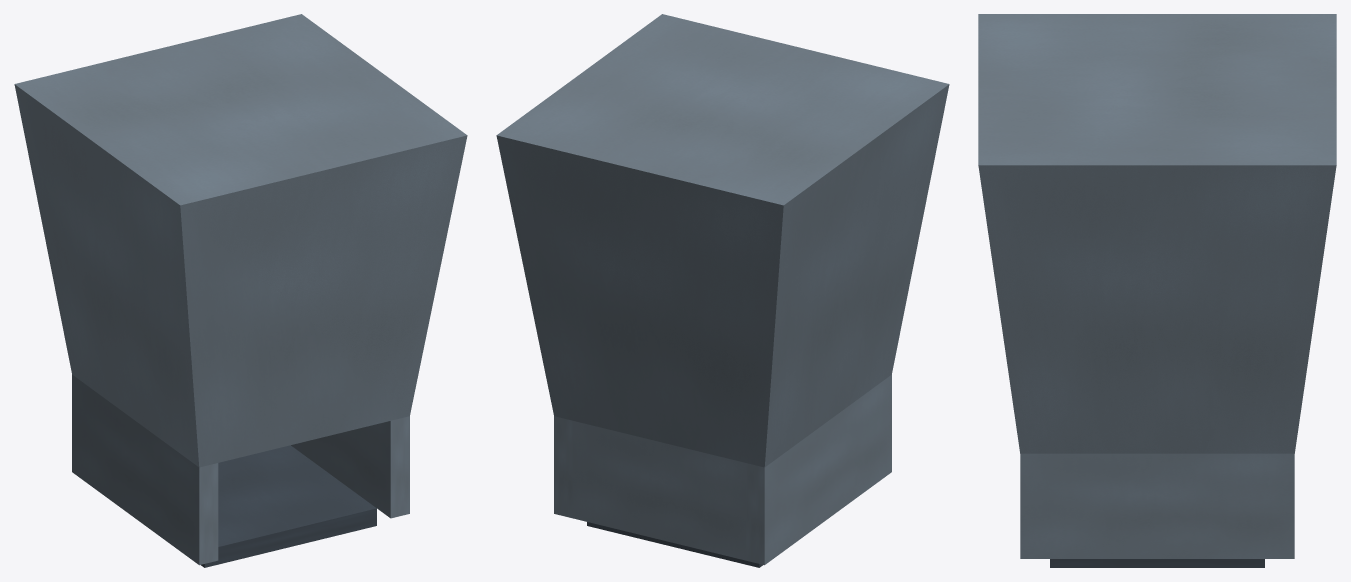
File: dispenser-02.glb
3 renders of one model, left to right at view 1: azimuth 30°, elevation 25°; view 2: azimuth 150°, elevation 25°; view 3: azimuth 270°, elevation 25°, orthographic. The views are drawn at different scales.
Visible parts, largest first — view 1: housing, release-gate; view 2: housing, release-gate; view 3: housing, release-gate.
Part boxes in pixels (left/top/right/bottom): housing: left=14, top=14, right=467, bottom=565; release-gate: left=201, top=445, right=376, bottom=567; housing: left=496, top=14, right=949, bottom=565; release-gate: left=587, top=522, right=762, bottom=567; housing: left=978, top=14, right=1336, bottom=558; release-gate: left=1050, top=559, right=1264, bottom=567.
Size of the model in its own units: 0.6 by 0.8 by 0.6.
Materials: 2 (2 with a texture image).
